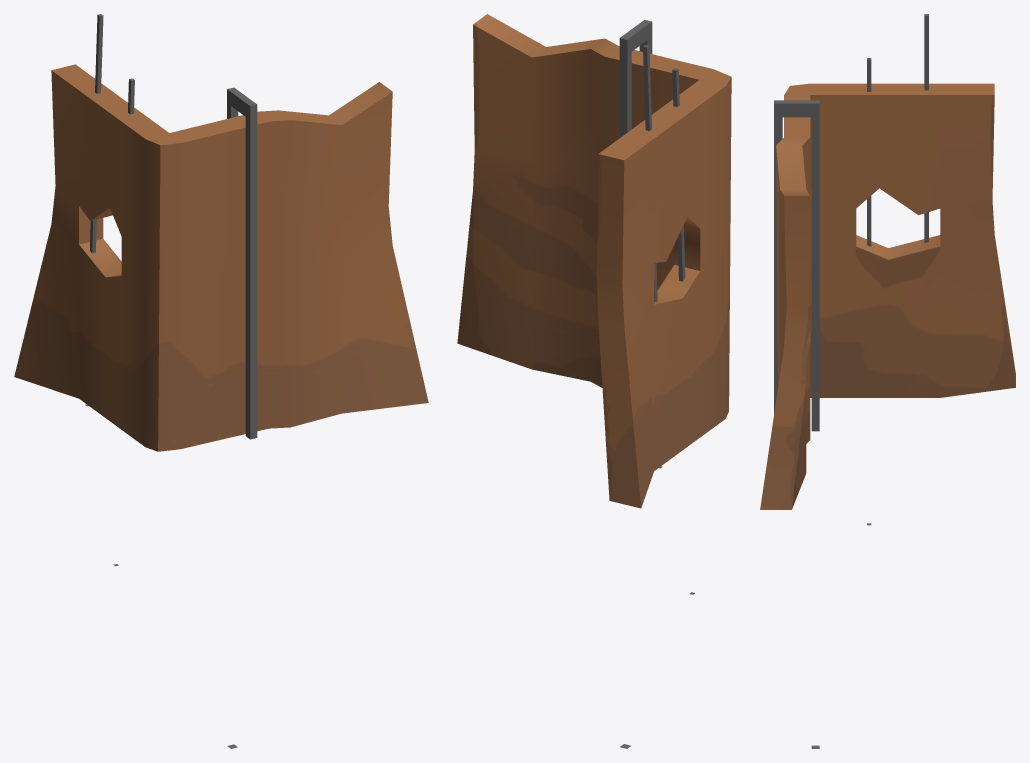
File: Mur3.fbx
The picture shows the model from 3 angles, left to right: view 1: azimuth 30°, elevation 25°; view 2: azimuth 150°, elevation 25°; view 3: azimuth 270°, elevation 25°; orthographic projection. The views are drawn at different scales.
Visible parts, largest first — view 1: Cube.103; view 2: Cube.103; view 3: Cube.103.
Part boxes in pixels (left/top/right/bottom): Cube.103: left=14, top=14, right=428, bottom=748; Cube.103: left=457, top=14, right=731, bottom=748; Cube.103: left=760, top=14, right=1015, bottom=748.
Size of the model in its own units: 559 by 1332 by 444.
